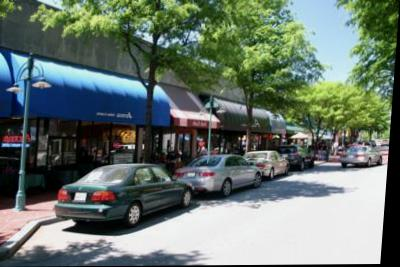License_Plate: (70, 191, 90, 203)
